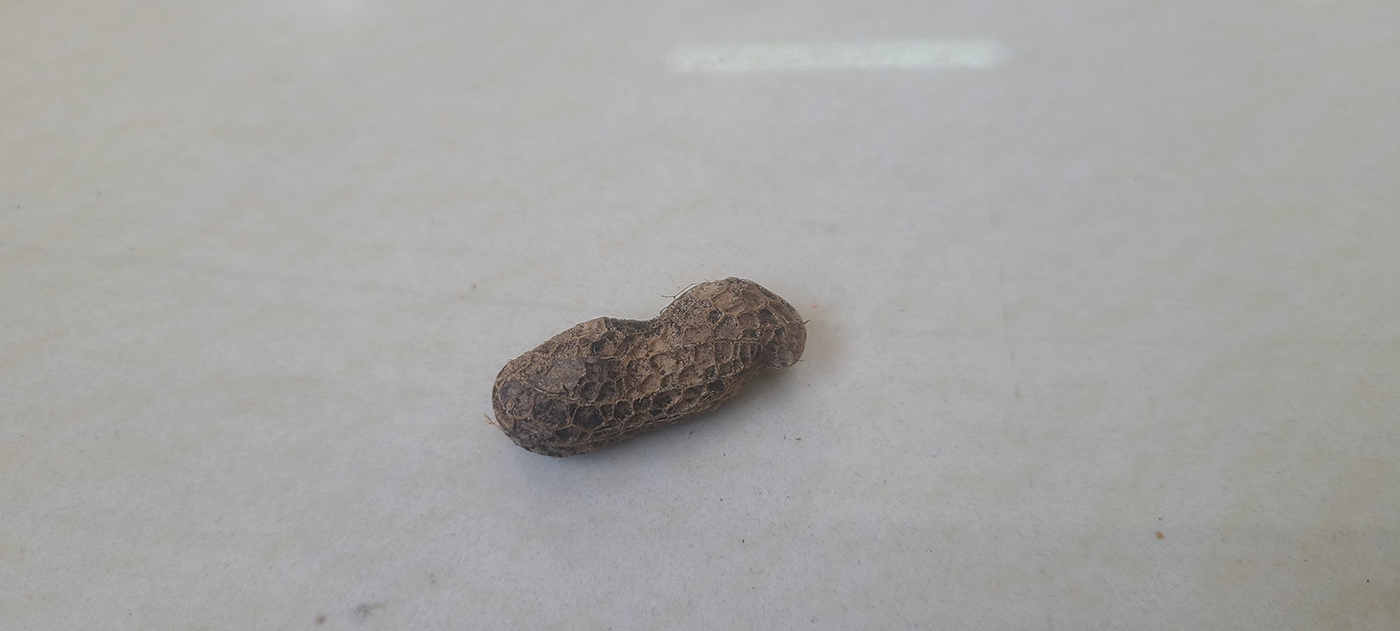l: (485, 276, 813, 462)
